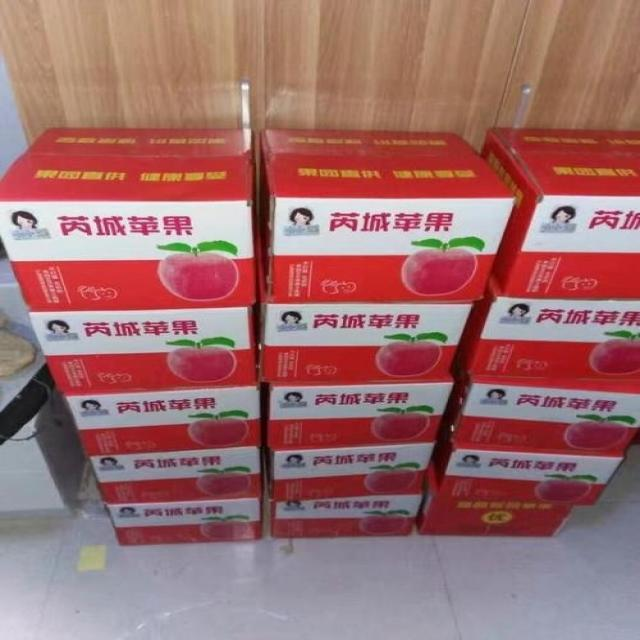box: (0, 123, 261, 309), (260, 130, 516, 301), (477, 128, 639, 299), (31, 305, 260, 396), (454, 267, 639, 376), (258, 299, 477, 384), (437, 418, 630, 508), (65, 384, 265, 461), (443, 375, 639, 453), (415, 450, 577, 538), (264, 377, 454, 448), (262, 442, 433, 505), (0, 395, 84, 516), (88, 444, 260, 503), (102, 495, 266, 546), (273, 493, 420, 537)
